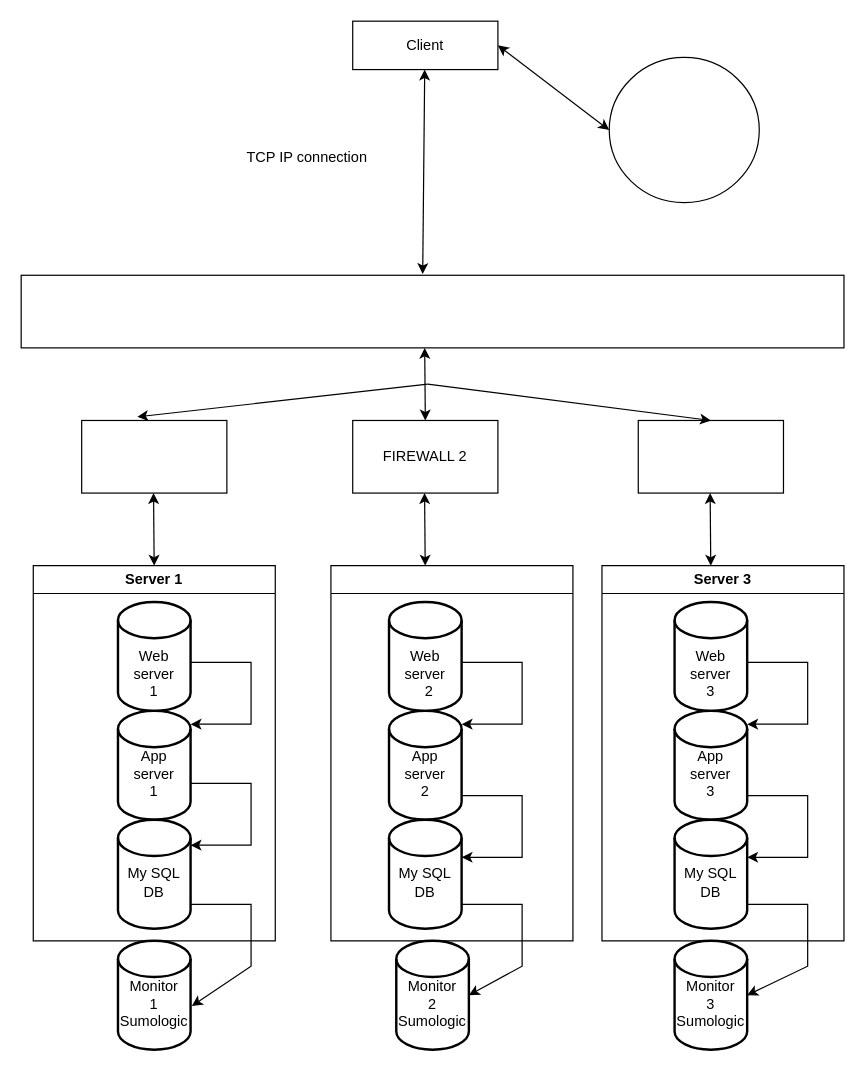
The diagram is 865 pixels wide and 1072 high, and some of its shapes have lost their labels. The centre of each missing label's shape, as x and y in pixels:
"DNS www;foobar.com to ip 8.8.8.8" goes at [683,129].
"FIREWALL 1" goes at [153,456].
"FIREWALL 3" goes at [710,456].
"LOAD BALANCER SSL Certificates" goes at [432,311].
"Server 2" goes at [451,752].
